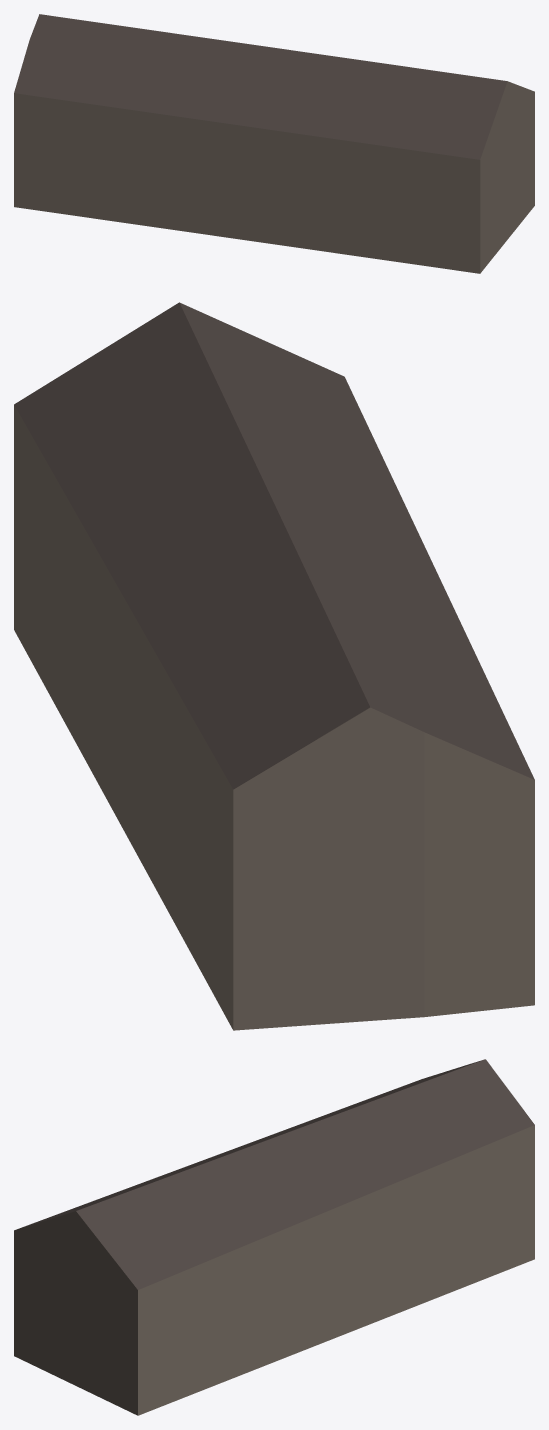
3 views of the same model, one above another, from view 1: azimuth 30°, elevation 25°; view 2: azimuth 150°, elevation 25°; view 3: azimuth 270°, elevation 25° (orthographic). The views are drawn at different scales.
Visible parts, largest first — view 1: HP-w1515076949; view 2: HP-w1515076949; view 3: HP-w1515076949.
Boxes of the visible parts, x1=… form: HP-w1515076949: x1=14, y1=14, x2=534, y2=273; HP-w1515076949: x1=14, y1=302, x2=534, y2=1030; HP-w1515076949: x1=14, y1=1059, x2=534, y2=1415.
Bounding box in the file's own units: 21.61 × 8.35 × 22.54.
